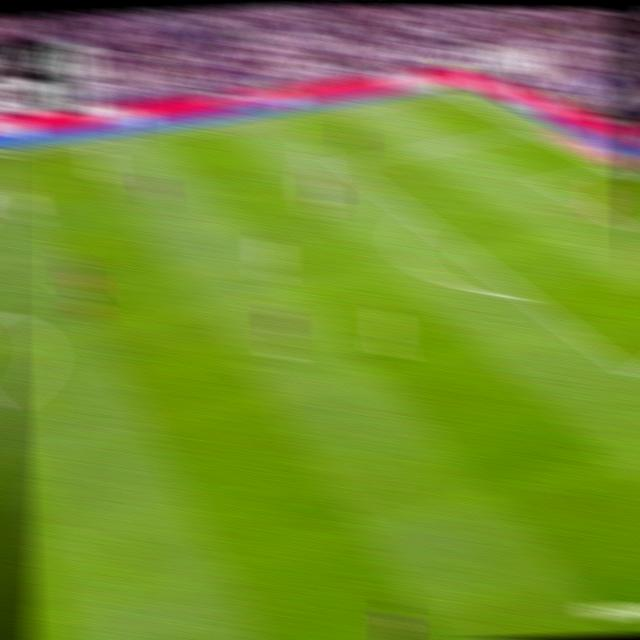bigarea_top_inner: (334, 153, 359, 174)
bigarea_top_outter: (513, 121, 537, 137)
bottom_arc_area_intersection: (514, 285, 541, 308)
corner: (436, 84, 462, 99)
smallarea_top_inner: (534, 175, 555, 189)
top_arc_area_intersection: (405, 206, 429, 224)
